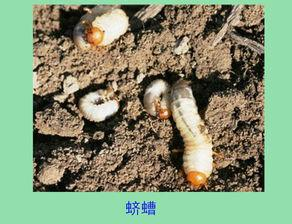grub: (78, 87, 122, 120)
